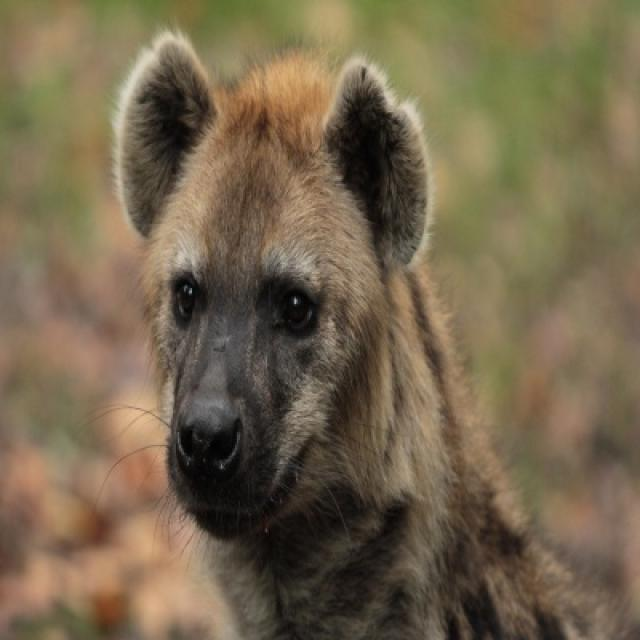hyena: (110, 26, 635, 638)
